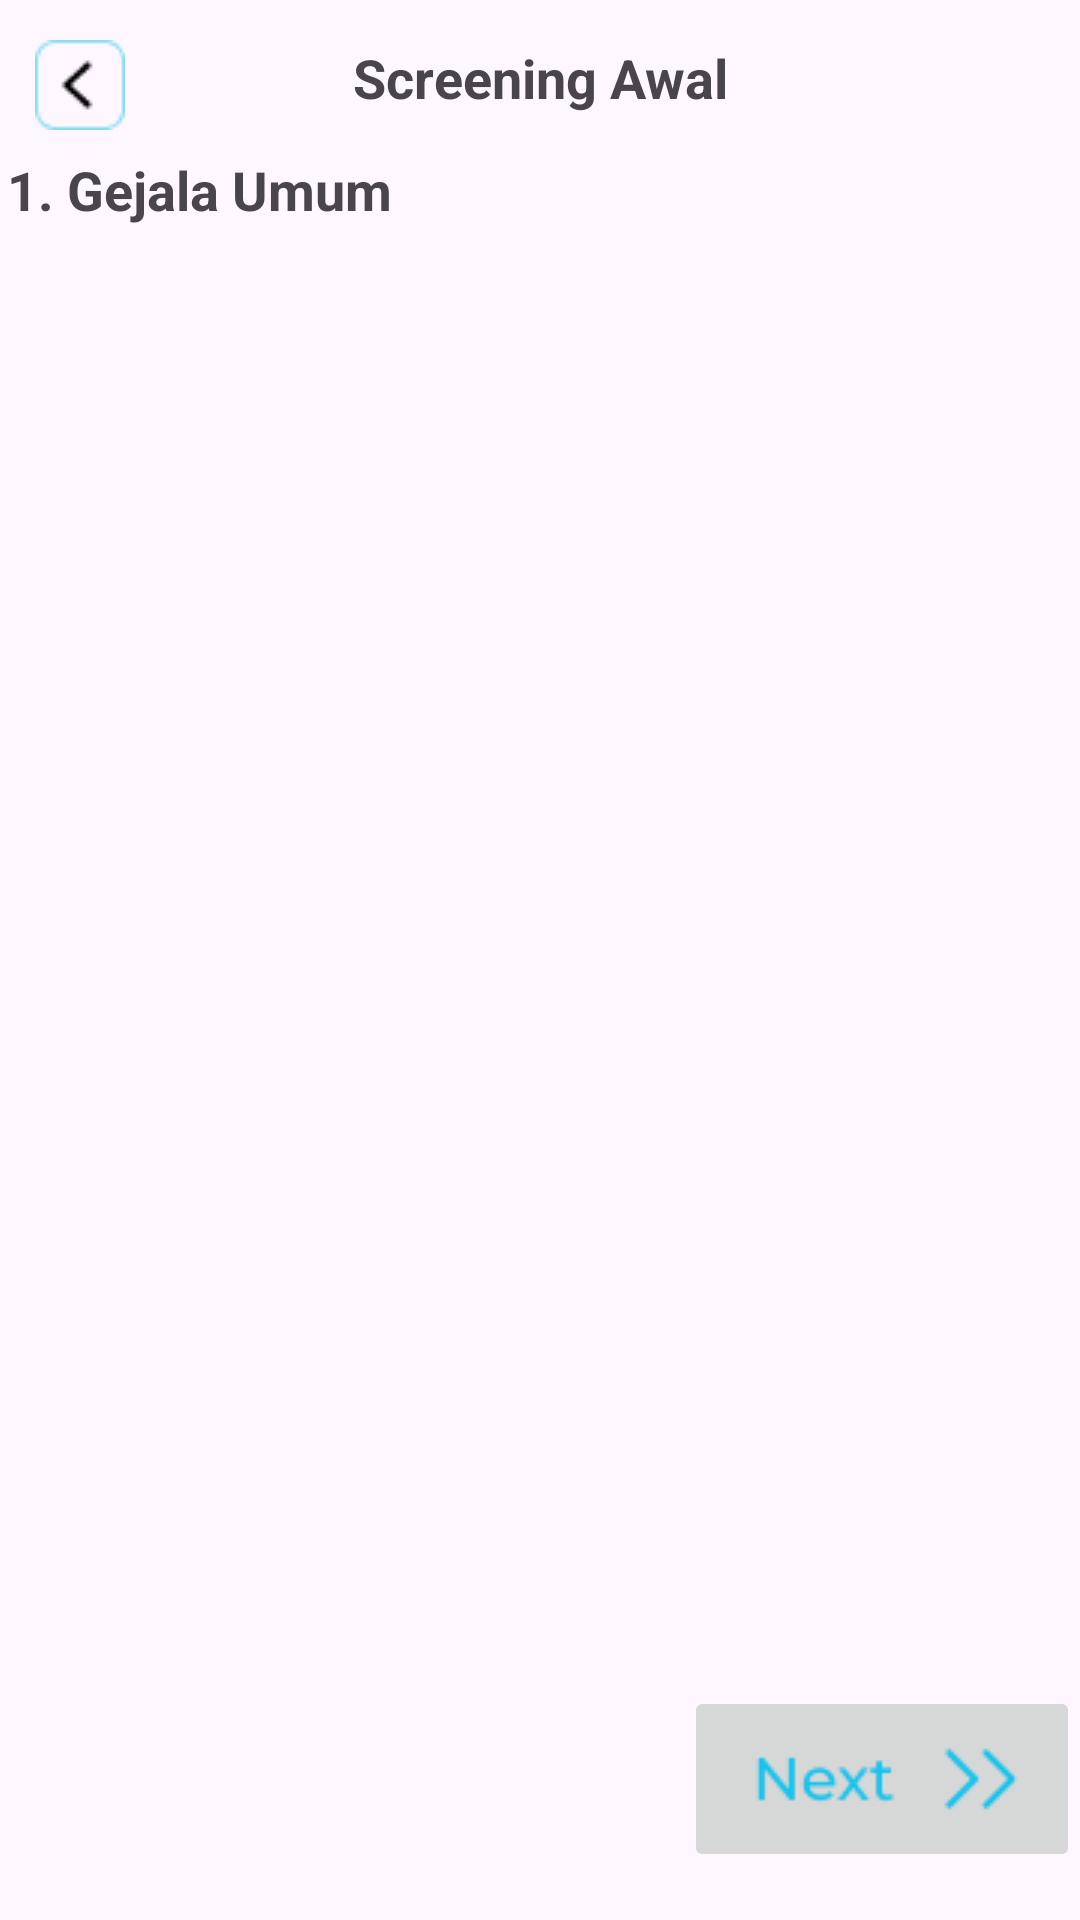

Where icons sit on this 1080px x 1920px app screen, as {"left": x1, "top": y1, "right": x2, "bottom": y2}:
back: {"left": 35, "top": 40, "right": 125, "bottom": 130}
